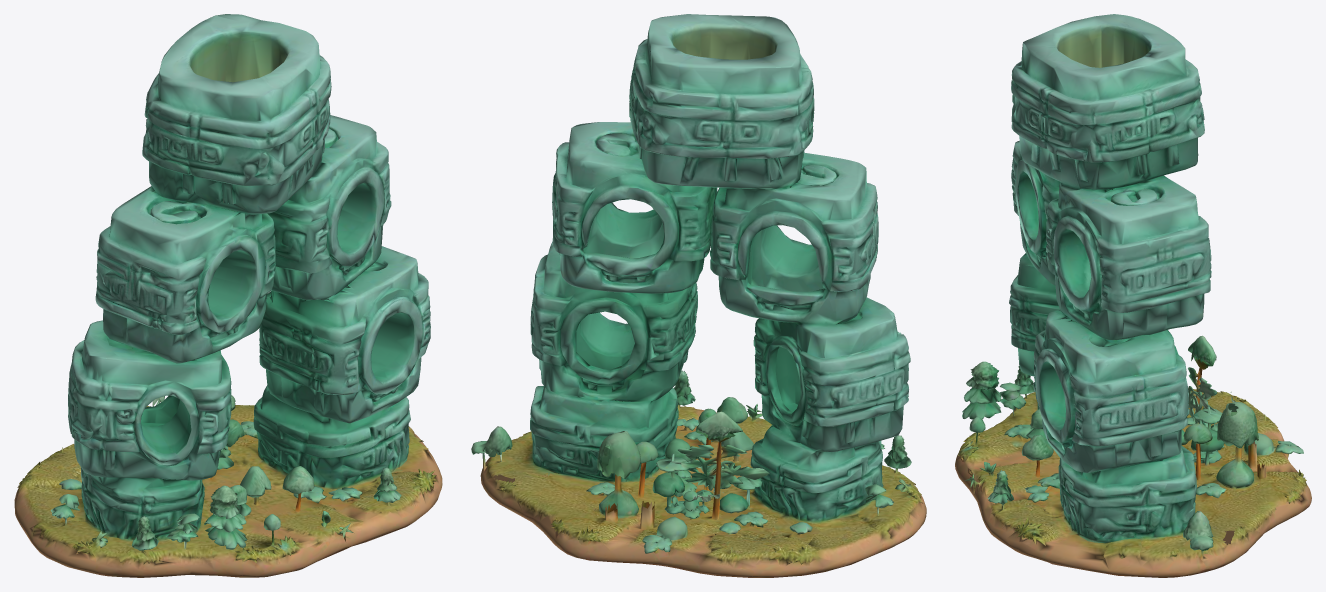
The model's file is 04-stage-two-gate.glb.
The picture shows the model from 3 angles, left to right: view 1: azimuth 30°, elevation 25°; view 2: azimuth 150°, elevation 25°; view 3: azimuth 270°, elevation 25°; orthographic projection. The views are drawn at different scales.
Parts seen in each view (by area): view 1: tripo_node_78c307cd-2b45-43f9-bfbb-293f34d53bee; view 2: tripo_node_78c307cd-2b45-43f9-bfbb-293f34d53bee; view 3: tripo_node_78c307cd-2b45-43f9-bfbb-293f34d53bee.
Boxes of the visible parts, left/top/right/bottom form: tripo_node_78c307cd-2b45-43f9-bfbb-293f34d53bee: left=14, top=14, right=442, bottom=577; tripo_node_78c307cd-2b45-43f9-bfbb-293f34d53bee: left=471, top=14, right=926, bottom=577; tripo_node_78c307cd-2b45-43f9-bfbb-293f34d53bee: left=955, top=14, right=1311, bottom=577.
Size of the model in its own units: 1.24 by 1.38 by 1.
Materials: 1 (1 with a texture image).
